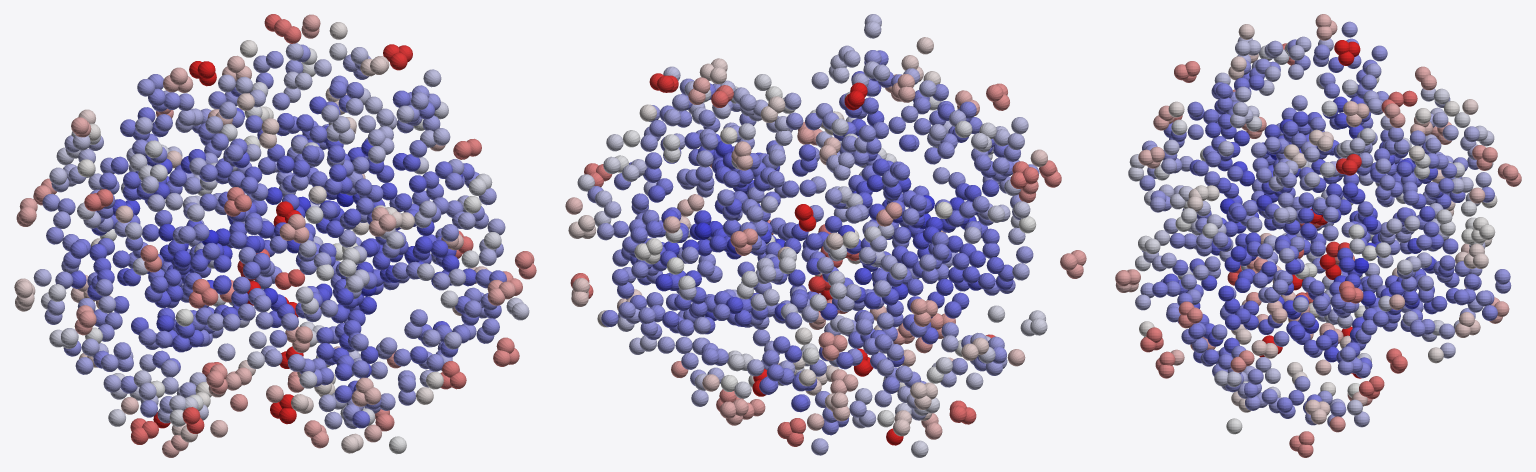
File: 4hhb__spheres__b-factor__H.glb
3 views of the same model, side by side, from view 1: azimuth 30°, elevation 25°; view 2: azimuth 150°, elevation 25°; view 3: azimuth 270°, elevation 25° (orthographic). The views are drawn at different scales.
Parts seen in each view (by area): view 1: Renderer Node; view 2: Renderer Node; view 3: Renderer Node.
Boxes of the visible parts, <box> form: Renderer Node: <box>14,14,536,457</box>; Renderer Node: <box>565,14,1086,457</box>; Renderer Node: <box>1115,14,1521,457</box>.
Size of the model in its own units: 70.74 by 60.5 by 61.02.
